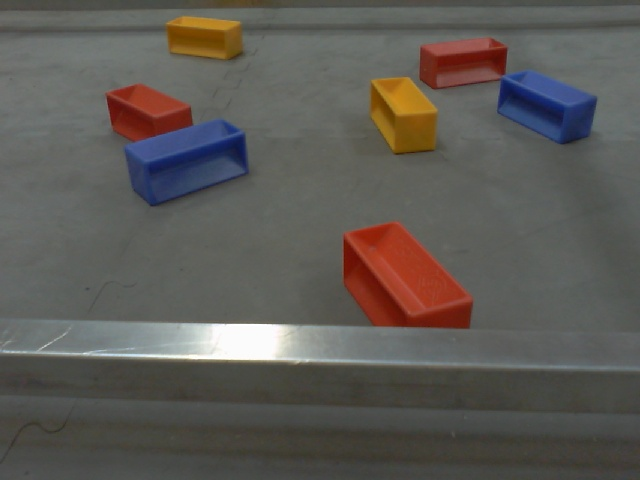BlueSample: (121, 118, 253, 208), (493, 69, 598, 148)
RedSample: (339, 217, 481, 335), (104, 79, 196, 142), (418, 34, 508, 89)
YellowSample: (365, 74, 441, 156), (164, 13, 246, 62)
